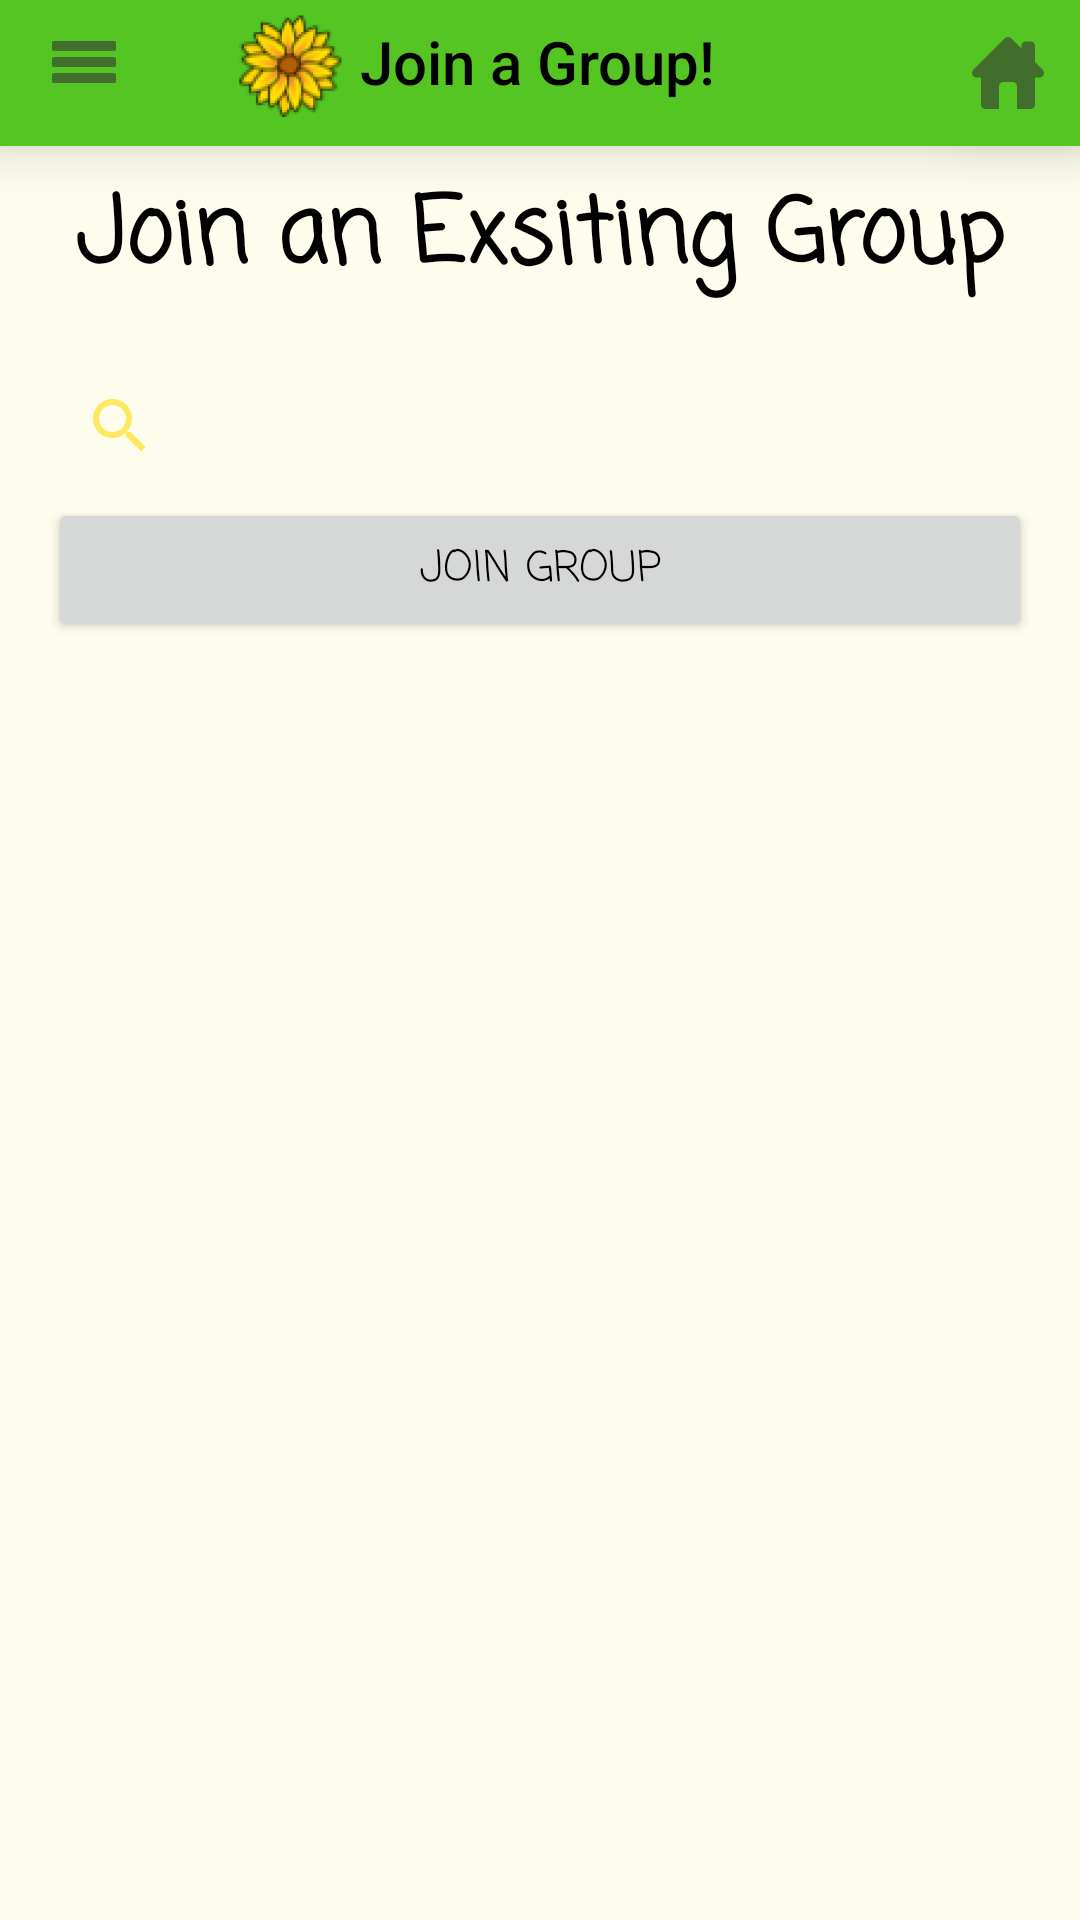

Icons on this 1080 × 1920 Android screen, each with its box as (x1,y1,x2,y2):
home: (972,37,1044,109)
